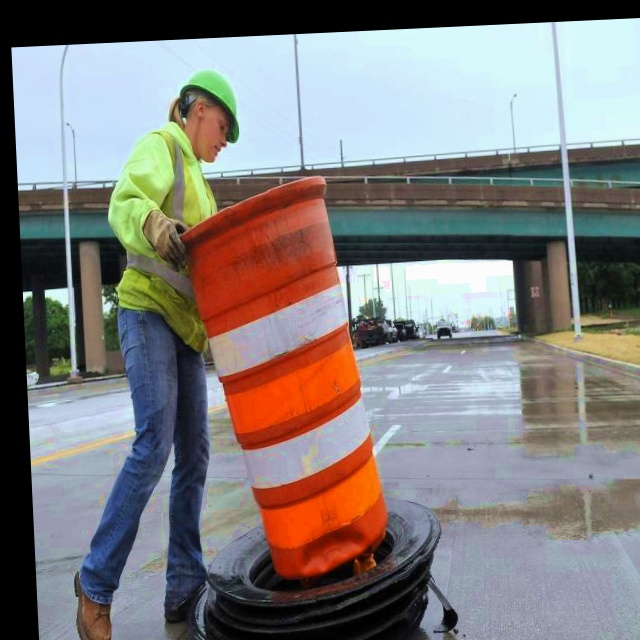Con_Casco: (177, 69, 239, 164)
Con_Chaleco: (110, 119, 224, 343)
